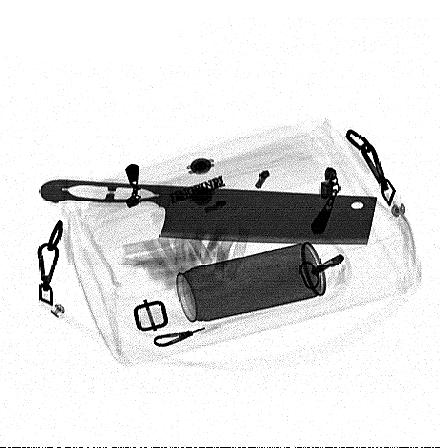Knife: (39, 178, 379, 246)
